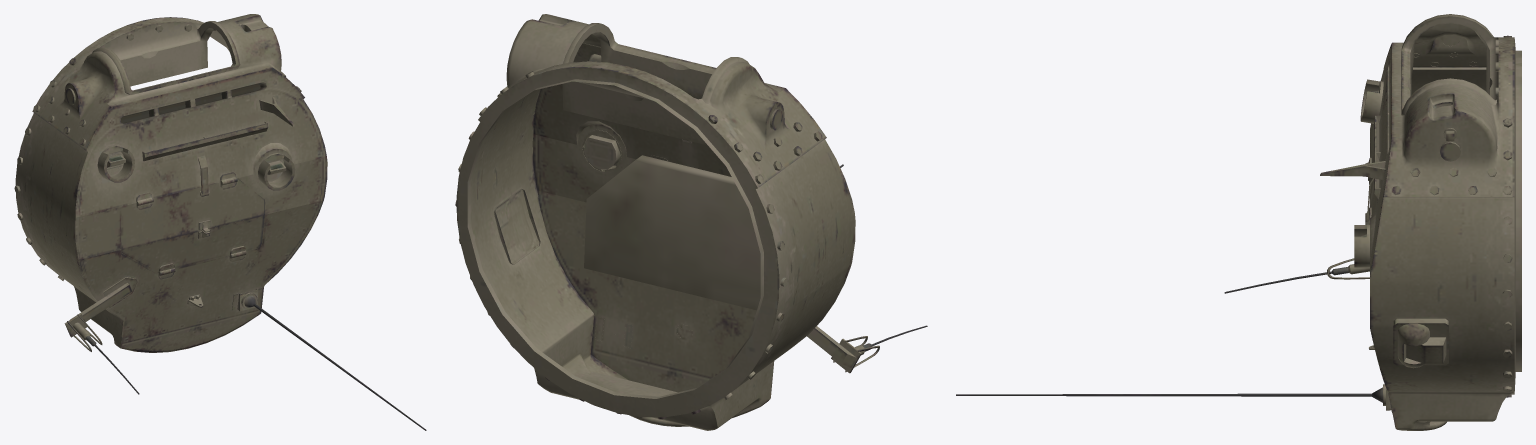
The model's file is Turret_01.glb.
3 views of the same model, side by side, from view 1: azimuth 30°, elevation 25°; view 2: azimuth 150°, elevation 25°; view 3: azimuth 270°, elevation 25° (orthographic). The views are drawn at different scales.
Parts seen in each view (by area): view 1: set_0_group_0; view 2: set_0_group_0; view 3: set_0_group_0.
Boxes of the visible parts, x1,y1,x2,y2 form: set_0_group_0: (14, 14, 426, 430); set_0_group_0: (455, 14, 927, 430); set_0_group_0: (956, 14, 1521, 430).
Bounding box in the file's own units: 1.57 × 1.67 × 2.36.
Materials: 1 (1 with a texture image).
